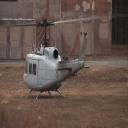helicopter: (1, 19, 102, 100)
